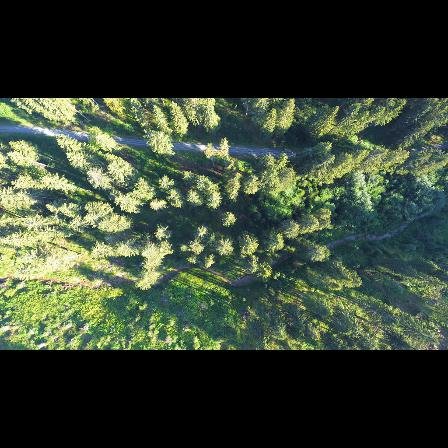Sick: (194, 174, 206, 187)
